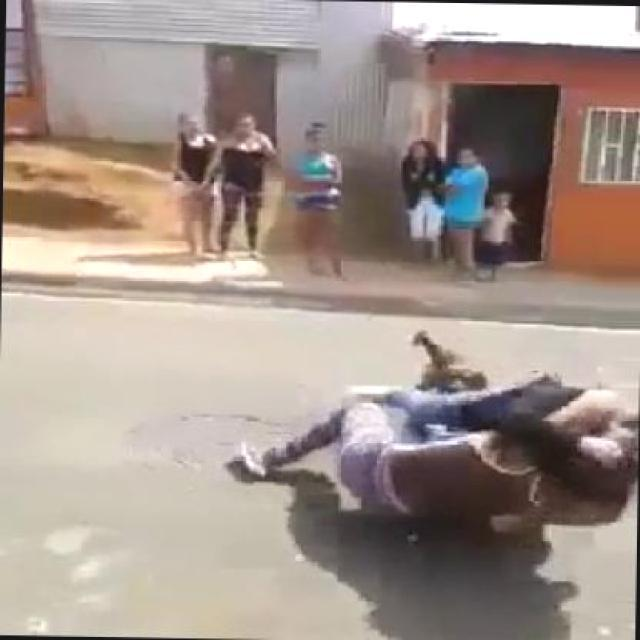fight: (222, 323, 638, 542)
